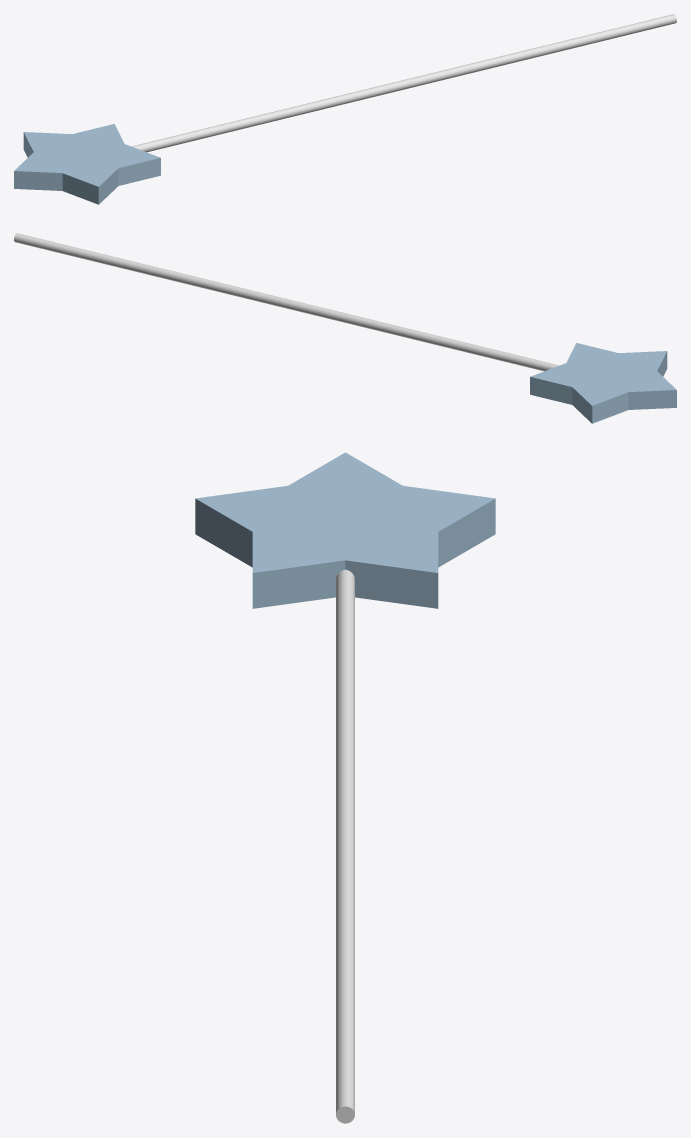
File: ordinary_wizard_wand.obj
The picture shows the model from 3 angles, top to bottom: view 1: azimuth 30°, elevation 25°; view 2: azimuth 150°, elevation 25°; view 3: azimuth 270°, elevation 25°; orthographic projection. The views are drawn at different scales.
Visible parts, largest first — view 1: 五角星_柱体.001, 杆_柱体.008; view 2: 五角星_柱体.001, 杆_柱体.008; view 3: 五角星_柱体.001, 杆_柱体.008.
Part boxes in pixels (bbox=[...]): 五角星_柱体.001: bbox=[14, 124, 160, 204]; 杆_柱体.008: bbox=[131, 14, 676, 152]; 五角星_柱体.001: bbox=[530, 343, 676, 423]; 杆_柱体.008: bbox=[14, 233, 559, 371]; 五角星_柱体.001: bbox=[195, 452, 495, 608]; 杆_柱体.008: bbox=[336, 569, 354, 1123].
Bounding box in the file's own units: 1.93 × 0.05 × 0.3804.
